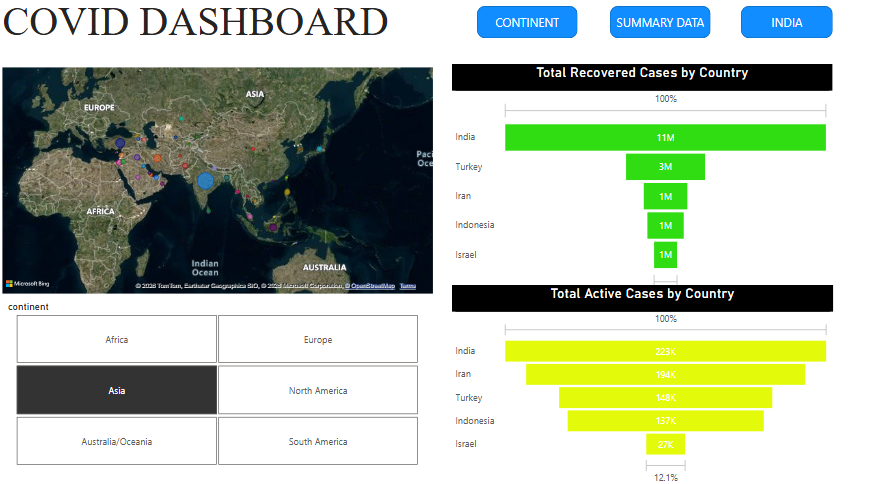

This screenshot's page, from the dashboard's own definition file:
{"tool":"powerbi","page":{"name":"COUNTRY","canvas":[1280,720],"ordinal":2},"visuals":[{"type":"map","fields":{"Category":["summary_data.country"],"Size":["Sum(daily_data.daily_new_cases)"],"Series":["summary_data.country"]},"box":[0,101.4,640,341.4],"z":0},{"type":"funnel","fields":{"Category":["summary_data.country"],"Y":["Sum(summary_data.total_recovered)"]},"box":[662.9,101.4,557.1,352.9],"z":1000},{"type":"funnel","fields":{"Category":["summary_data.country"],"Y":["Sum(summary_data.active_cases)"]},"box":[637.1,424.3,582.9,295.7],"z":2000},{"type":"slicer","fields":{"Values":["summary_data.continent"]},"box":[0,442.9,637.1,251.4],"z":3000},{"type":"textbox","box":[0,0,662.9,94.3],"z":4000},{"type":"shape","box":[700,15.7,147.1,47.1],"z":5000},{"type":"shape","box":[1085.7,15.7,134.3,47.1],"z":6000},{"type":"shape","box":[894.3,15.7,147.1,47.1],"z":7000}]}

Visuals, with their boxes in screenshot pixels (x1, y1, x2, y2), scaled from the page's 1280x720 canvas onto the 872x484 screenshot:
map - summary_data.country x Sum(daily_data.daily_new_cases): detection(0, 68, 436, 298)
funnel - summary_data.country x Sum(summary_data.total_recovered): detection(452, 68, 831, 305)
funnel - summary_data.country x Sum(summary_data.active_cases): detection(434, 285, 831, 483)
slicer - summary_data.continent: detection(0, 298, 434, 467)
textbox: detection(0, 0, 452, 63)
shape: detection(477, 11, 577, 42)
shape: detection(740, 11, 831, 42)
shape: detection(609, 11, 709, 42)
